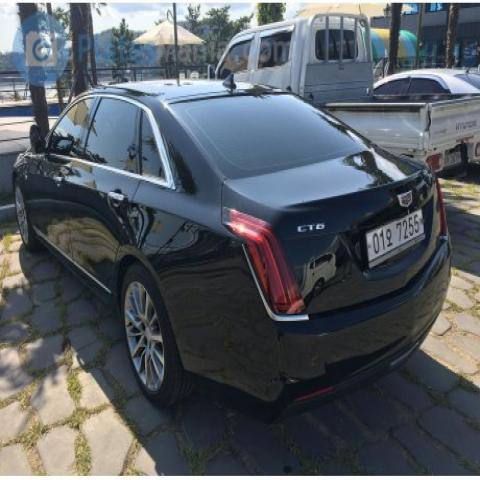LP: (360, 196, 432, 278)
